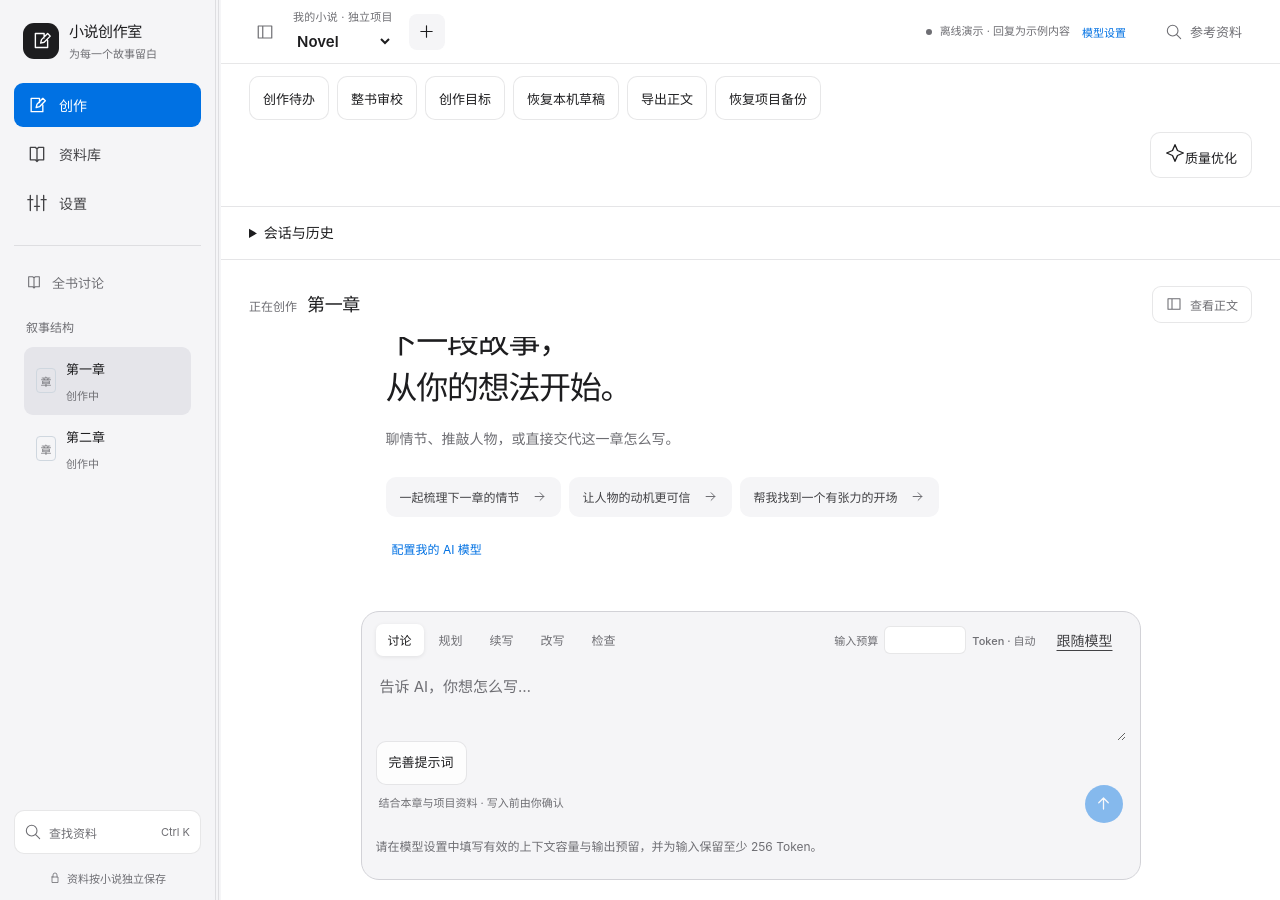
Test case: hard-blocks chapter, project, workspace, and browser departure while a candidate request is pending
(page scrolled)
Expected: the text box named "给 AI 的消息" is shown, [376,658,1126,741]
Click the button "查看正文": click(1202, 304) [1152,286,1252,323]
(page scrolled)
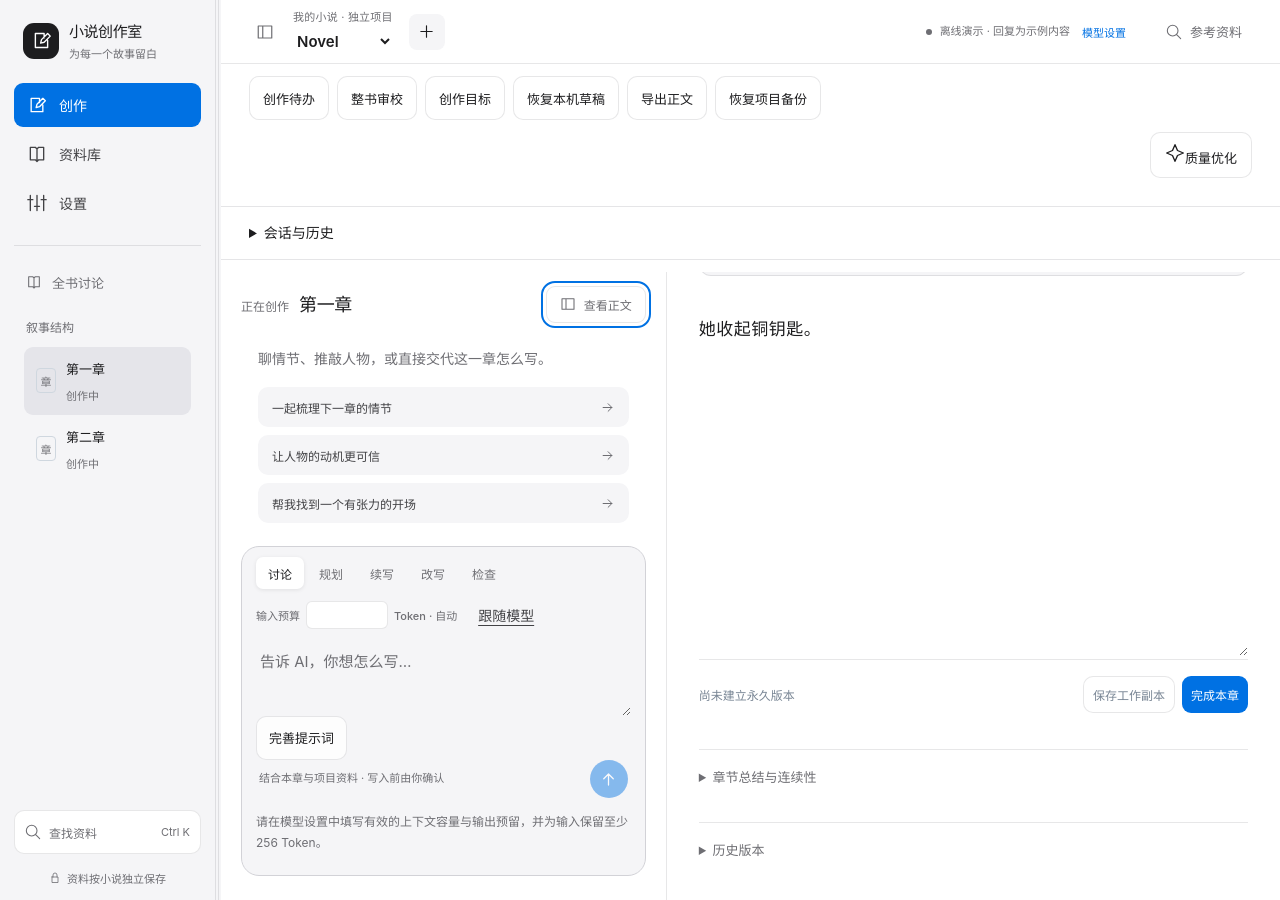
Click the heading "章节总结与连续性": click(764, 777) [712,769,816,785]
(page scrolled)
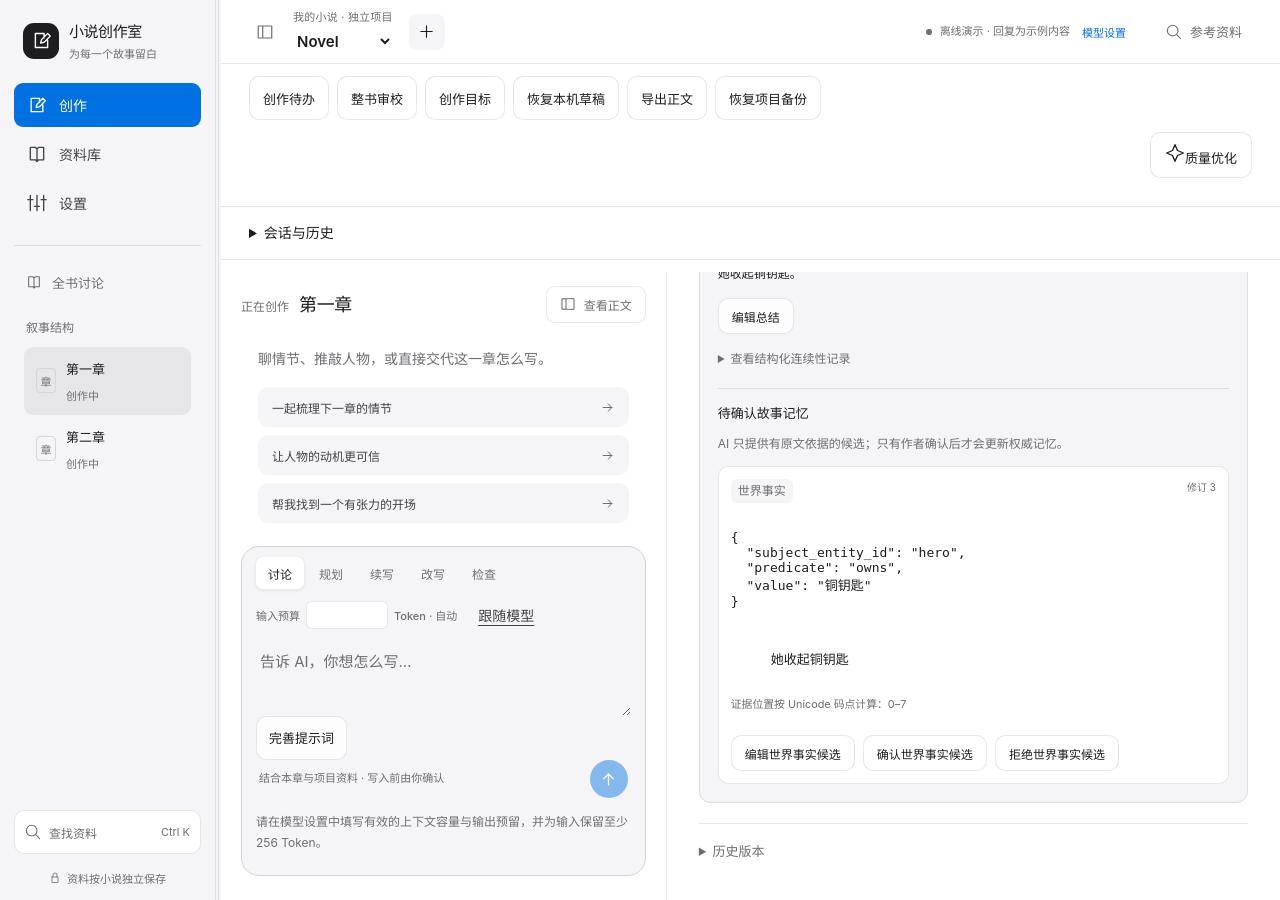
Expected: the button "编辑世界事实候选" is shown, [731,735,855,771]
Click the button "确认世界事实候选": click(925, 753) [863,735,987,771]
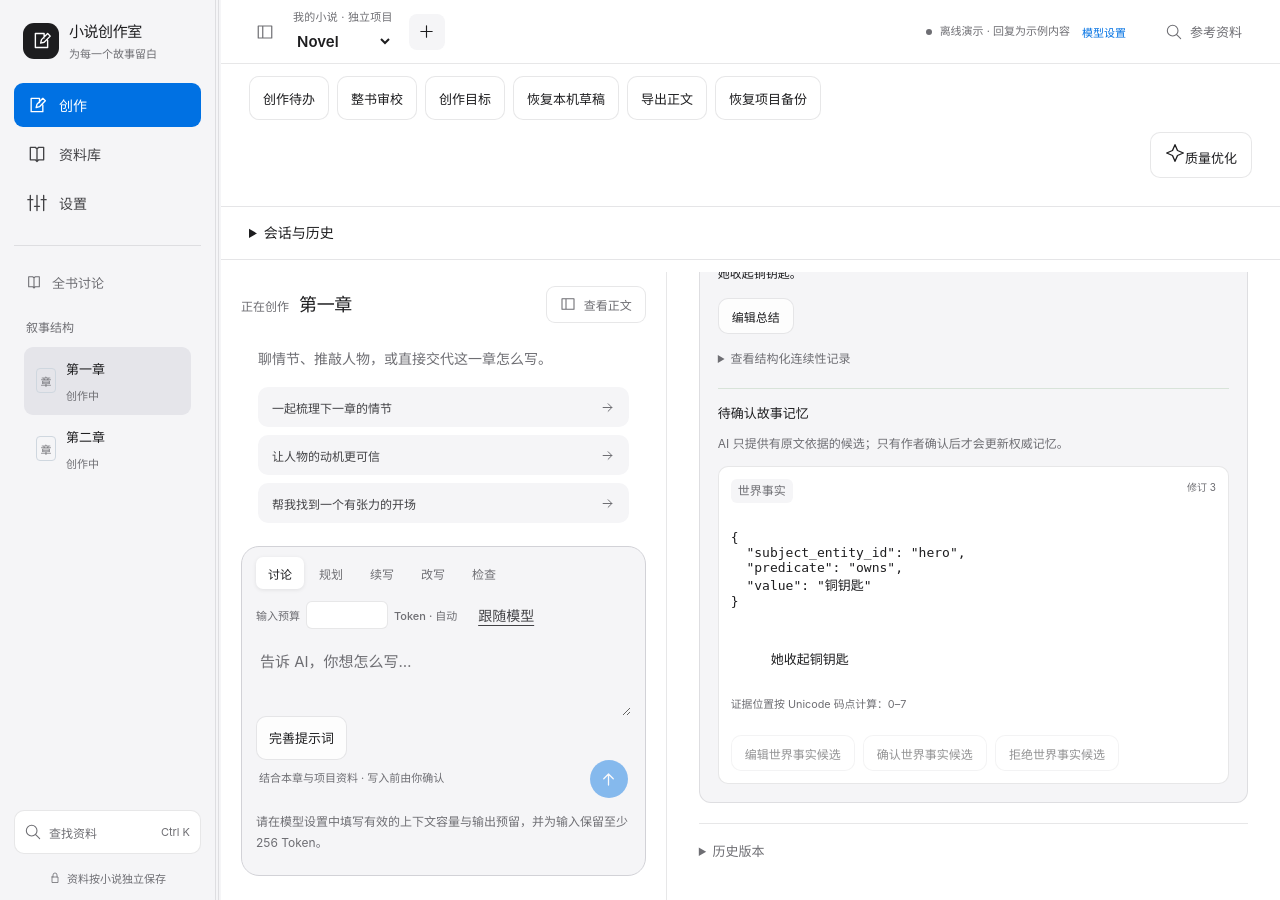
Click the button "章 第二章 创作中": click(108, 449) [24,415,191,483]
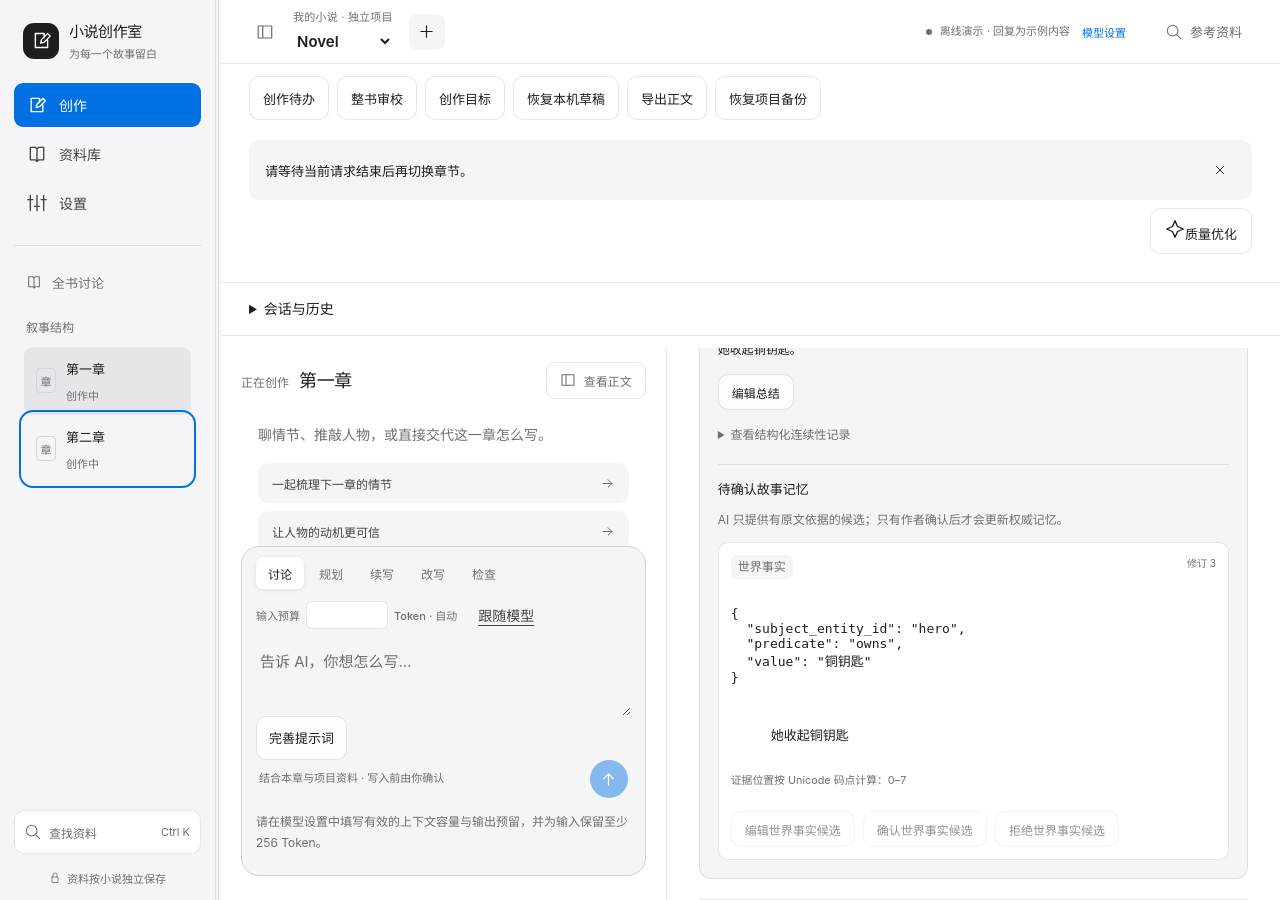
Expected: the text "请等待当前请求结束后再切换章节。" is shown, [249,140,1252,200]
Click the button "资料库": click(108, 154) [14,132,201,176]
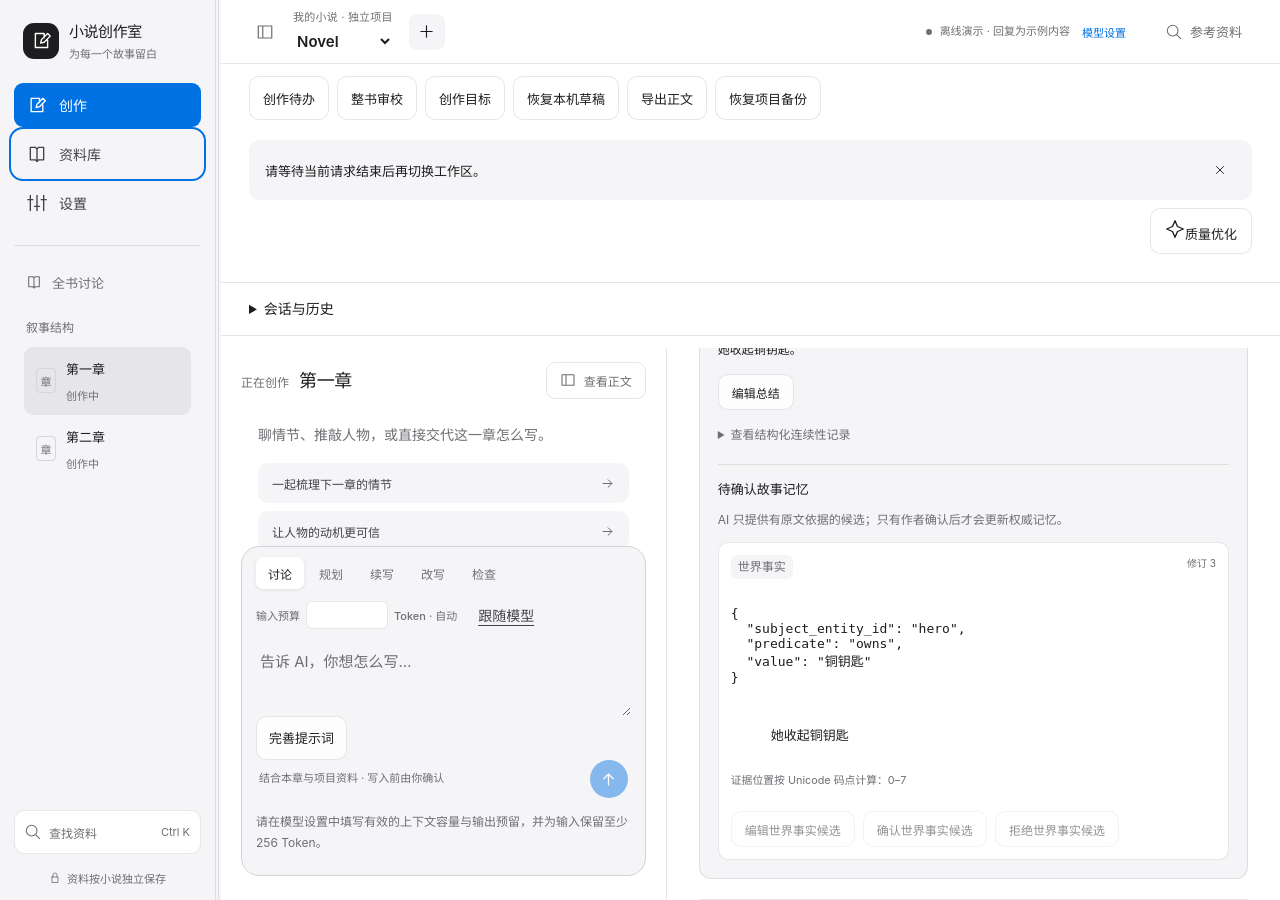
Expected: the text "请等待当前请求结束后再切换工作区。" is shown, [249,140,1252,200]
Select "Other" in the dropdown named "当前小说项目": (343, 41) [293,27,393,55]
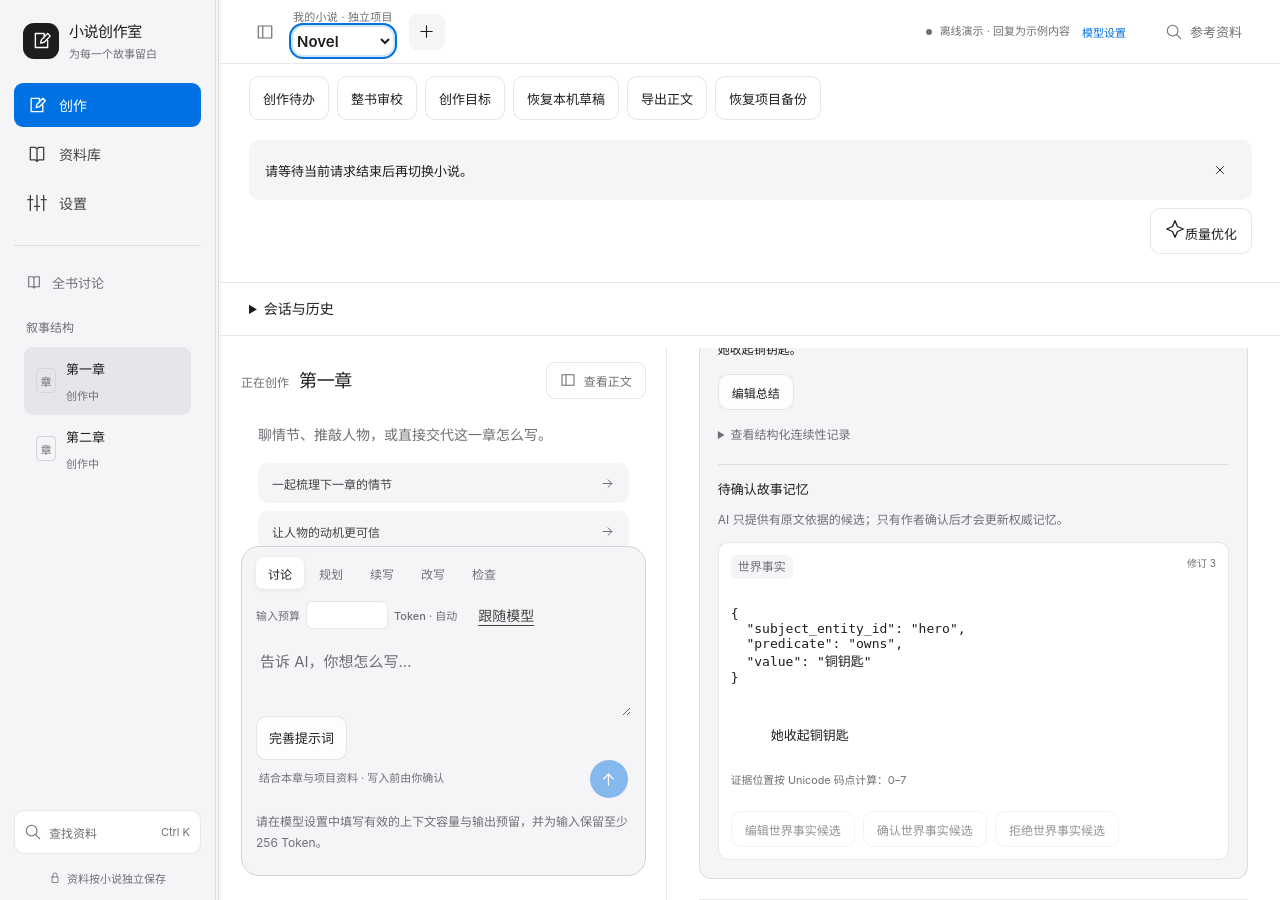
Expected: the text "请等待当前请求结束后再切换小说。" is shown, [249,140,1252,200]
